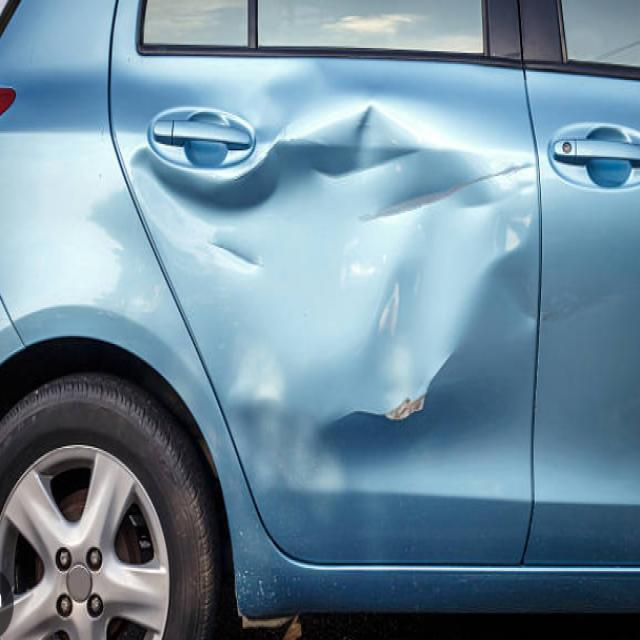Dent: (129, 61, 538, 561), (362, 164, 533, 220), (387, 396, 425, 420)
